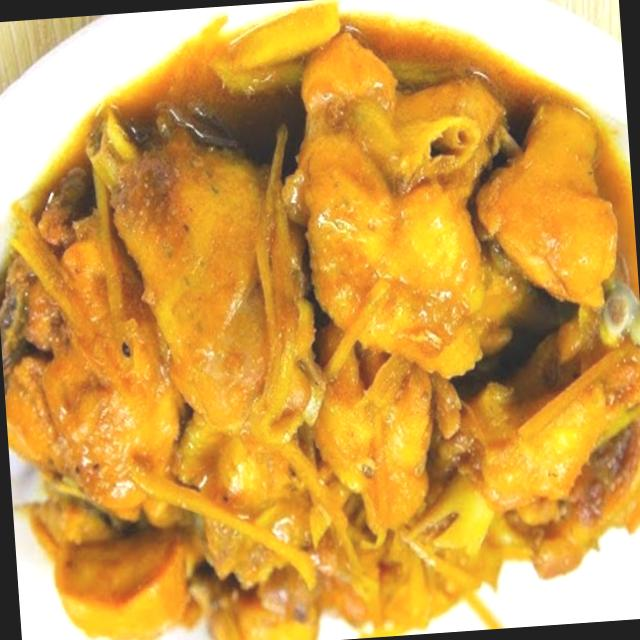ga kho: (0, 4, 640, 640)
